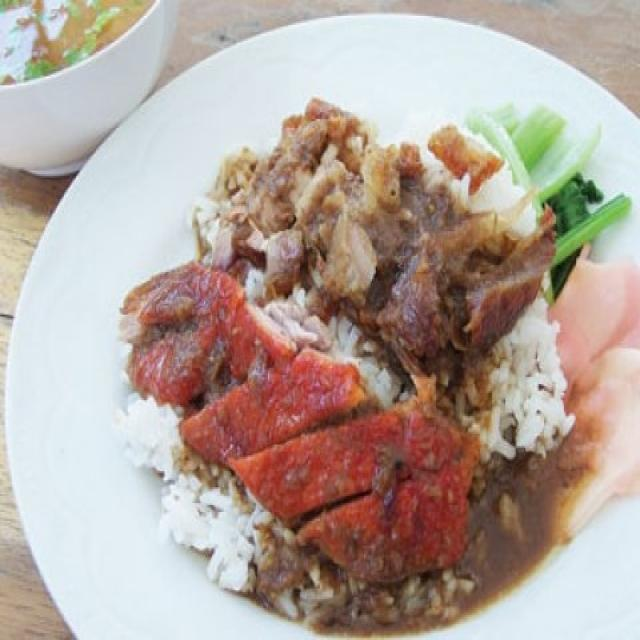米饭主食: (13, 12, 616, 620)
